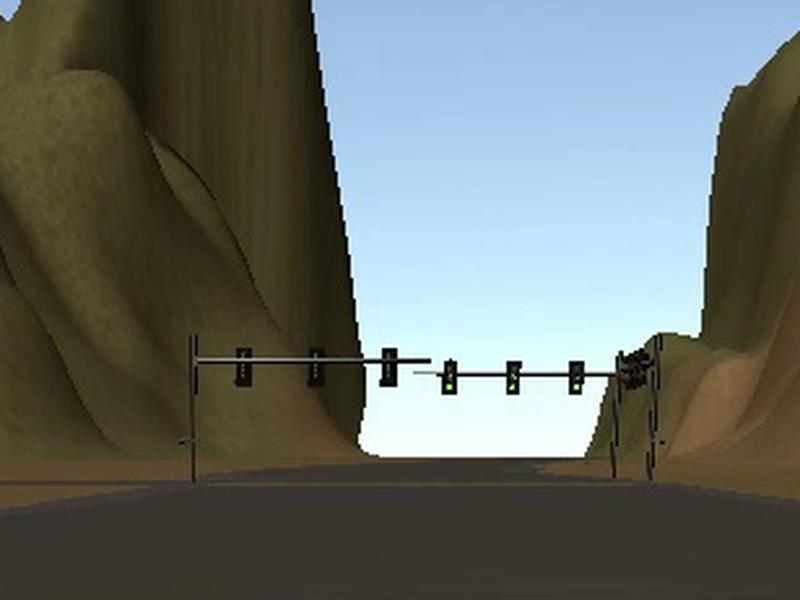Green: (568, 360, 585, 395), (440, 360, 457, 394), (506, 361, 521, 395)
